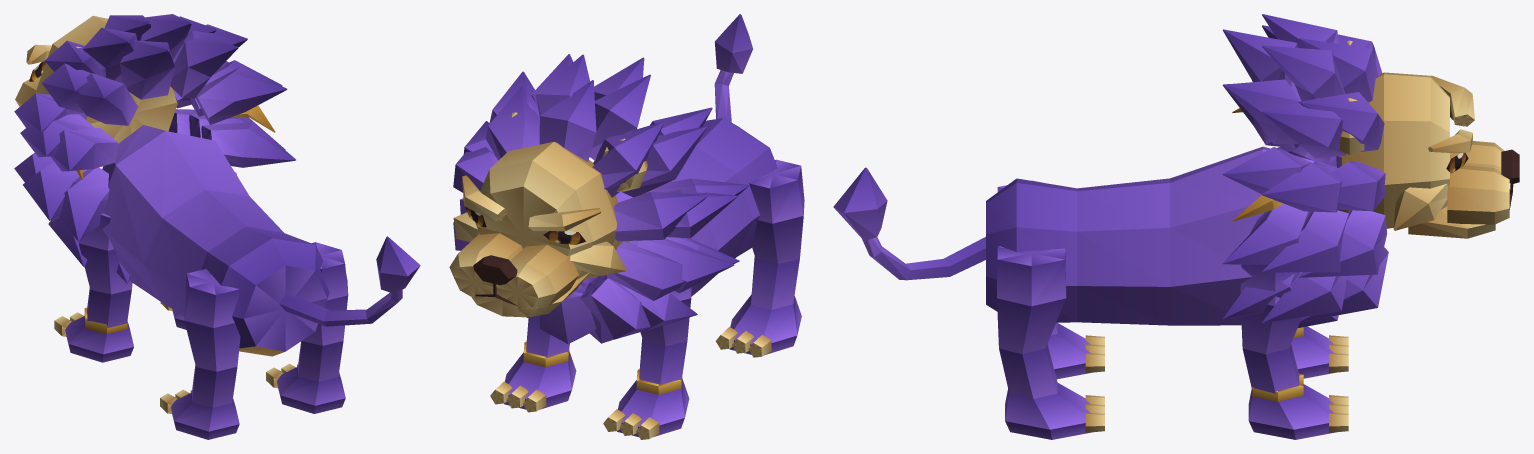
File: Lion_FormStudy.obj
The picture shows the model from 3 angles, left to right: view 1: azimuth 30°, elevation 25°; view 2: azimuth 150°, elevation 25°; view 3: azimuth 270°, elevation 25°; orthographic projection. The views are drawn at different scales.
Parts seen in each view (by area): view 1: Body, LeftBackLeg, RightBackLeg, LeftFrontLeg, Head, Mane2_1, Mane2_2, Mane2_9, Mane2_0, Mane2_6, Mane2_7, Mane2_8 (+17 smaller); view 2: Head, LeftBackLeg, Body, LeftFrontLeg, LeftMuzzle, RightFrontLeg, Mane0_8, Mane0_0, Mane0_7, Mane0_6, Mane0_9, Mane1_11 (+32 smaller); view 3: Body, RightBackLeg, Head, RightFrontLeg, RightMuzzle, Mane1_3, Mane0_3, Mane2_2, Mane1_0, Mane1_1, Mane1_2, Mane1_4 (+18 smaller).
Part boxes in pixels (x1,y1,x2,y2): Body: (102,125,329,356); LeftBackLeg: (171,269,240,439); RightBackLeg: (277,242,348,413); LeftFrontLeg: (65,213,133,362); Head: (36,15,177,143); Mane2_1: (195,66,287,124); Mane2_2: (201,122,295,167); Mane2_9: (119,40,174,99); Mane2_0: (170,36,238,98); Mane2_6: (58,167,109,241); Mane2_7: (50,128,117,171); Mane2_8: (75,73,137,125); Head: (475,141,617,280); LeftBackLeg: (729,159,804,354); Body: (590,118,777,296); LeftFrontLeg: (617,287,691,436); LeftMuzzle: (497,244,578,309); RightFrontLeg: (504,318,576,409); Mane0_8: (613,192,708,241); Mane0_0: (539,80,596,161); Mane0_7: (608,241,683,300); Mane0_6: (580,274,650,339); Mane0_9: (592,121,664,197); Mane1_11: (589,74,650,160); Body: (986,146,1314,325); RightBackLeg: (997,246,1091,439); Head: (1342,72,1449,228); RightFrontLeg: (1240,264,1335,439); RightMuzzle: (1447,165,1509,224); Mane1_3: (1262,210,1348,272); Mane0_3: (1299,210,1387,277); Mane2_2: (1222,203,1309,264); Mane1_0: (1262,45,1345,101); Mane1_1: (1262,98,1346,158); Mane1_2: (1262,162,1341,212); Mane1_4: (1262,272,1346,323).
Bounding box in the file's own units: 11.97 × 15 × 25.71.
Materials: 1 (1 with a texture image).
